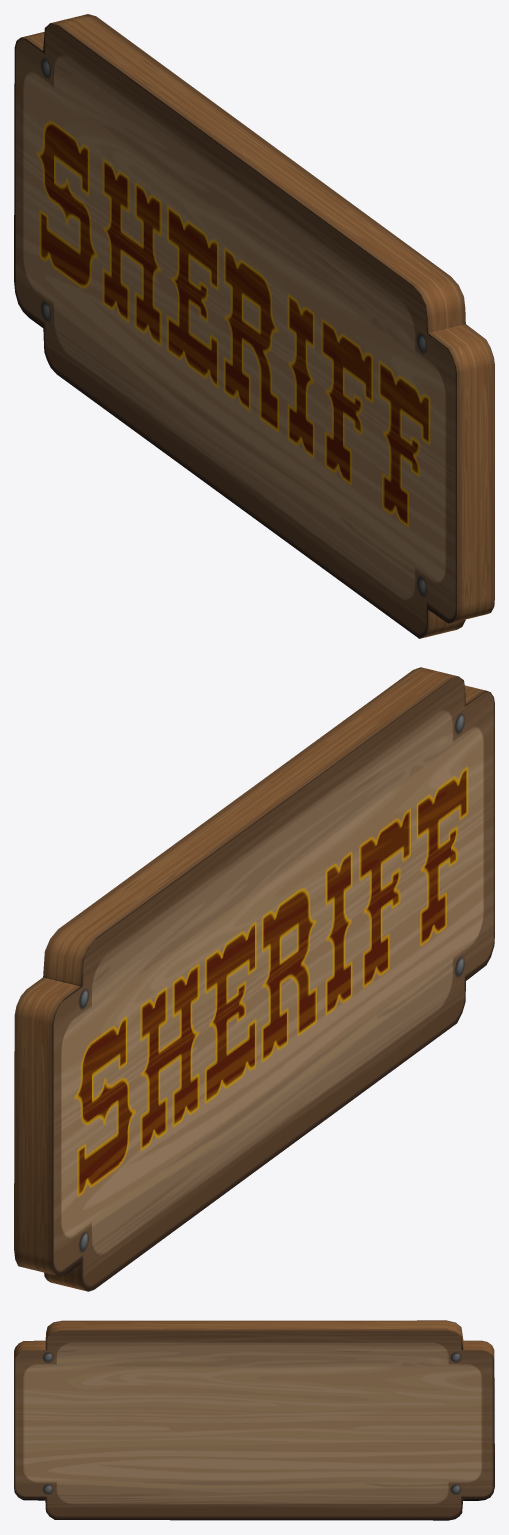
The model's file is Sign_Sheriff_01.FBX.
3 views of the same model, one above another, from view 1: azimuth 30°, elevation 25°; view 2: azimuth 150°, elevation 25°; view 3: azimuth 270°, elevation 25° (orthographic). The views are drawn at different scales.
Parts seen in each view (by area): view 1: Sign_Sheriff_01; view 2: Sign_Sheriff_01; view 3: Sign_Sheriff_01.
Boxes of the visible parts, bbox=[...] form: Sign_Sheriff_01: bbox=[14, 14, 494, 638]; Sign_Sheriff_01: bbox=[14, 667, 494, 1291]; Sign_Sheriff_01: bbox=[14, 1320, 494, 1520].
Bounding box in the file's own units: 0.2256 × 1.99 × 4.57.
